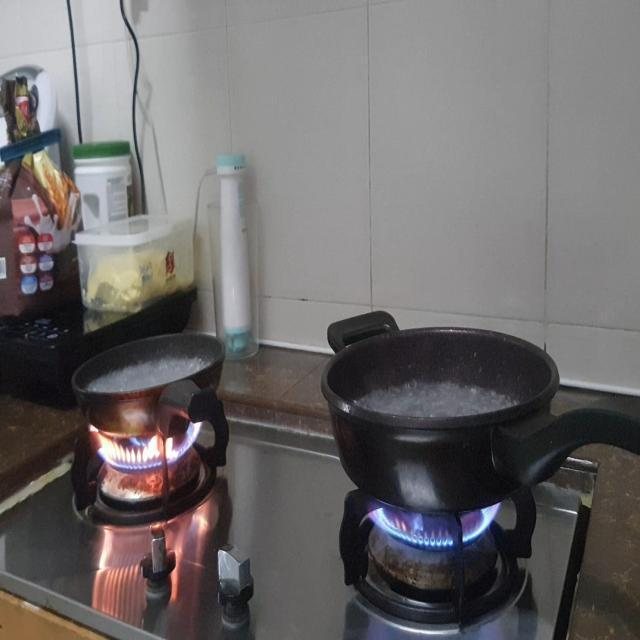smoke: (362, 498, 505, 551), (82, 430, 214, 468)
